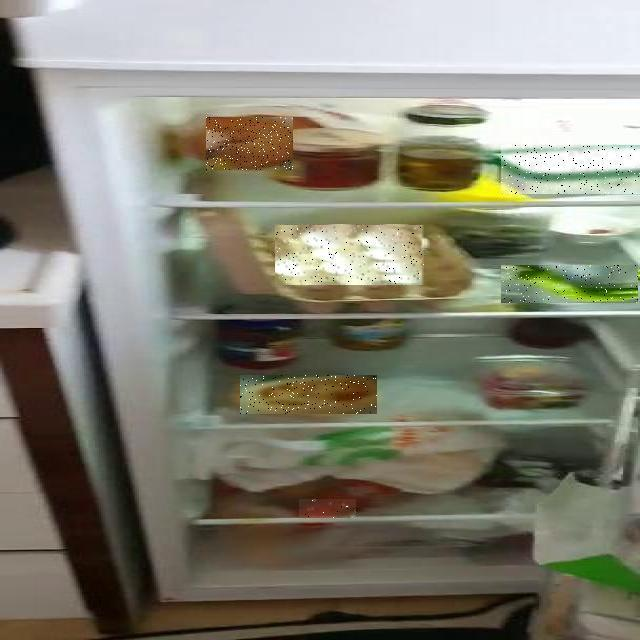egg: (63, 142, 489, 428)
